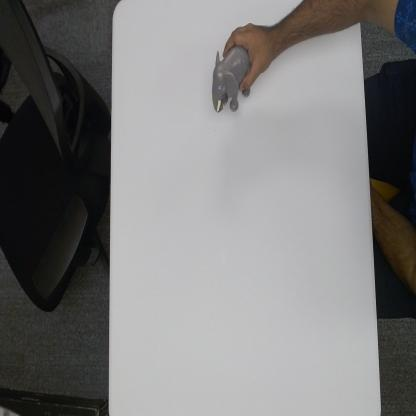Arm: (271, 0, 361, 63)
Elephant: (210, 44, 254, 117)
Hand: (223, 19, 272, 92)
